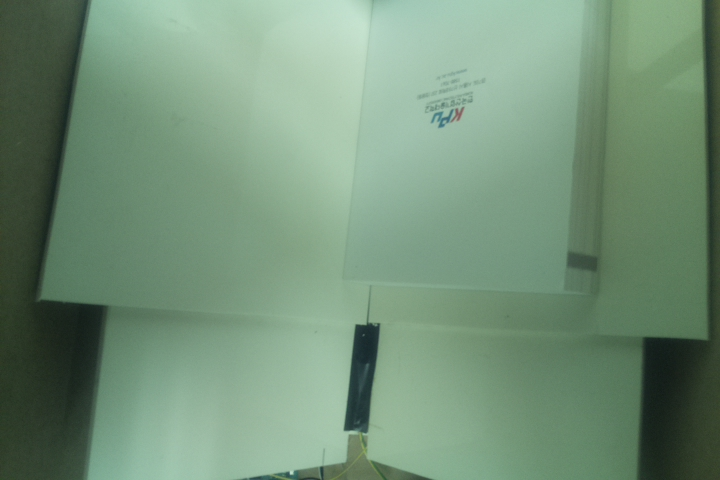book: (339, 1, 608, 296)
